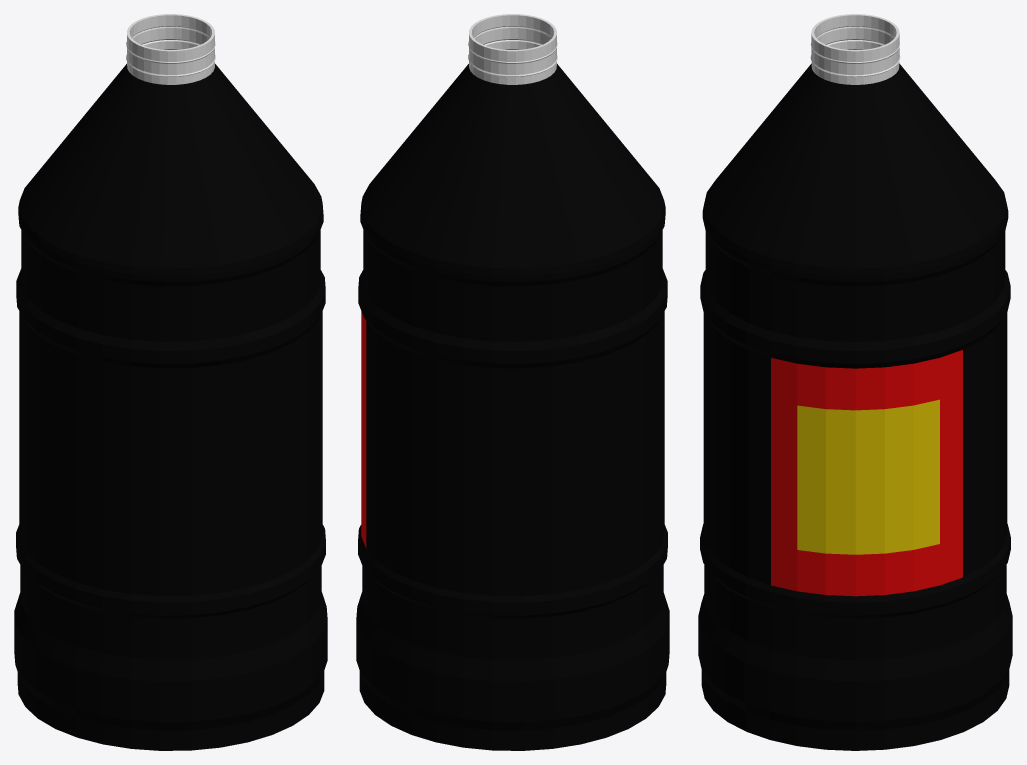
The model's file is patisnocup3.fbx.
3 views of the same model, side by side, from view 1: azimuth 30°, elevation 25°; view 2: azimuth 150°, elevation 25°; view 3: azimuth 270°, elevation 25° (orthographic).
Parts seen in each view (by area): view 1: Cylinder.001; view 2: Cylinder.001; view 3: Cylinder.001.
Boxes of the visible parts, <box> form: Cylinder.001: <box>14,14,327,750</box>; Cylinder.001: <box>356,14,669,750</box>; Cylinder.001: <box>698,14,1012,750</box>.
Bounding box in the file's own units: 52.66 × 121 × 52.66.
